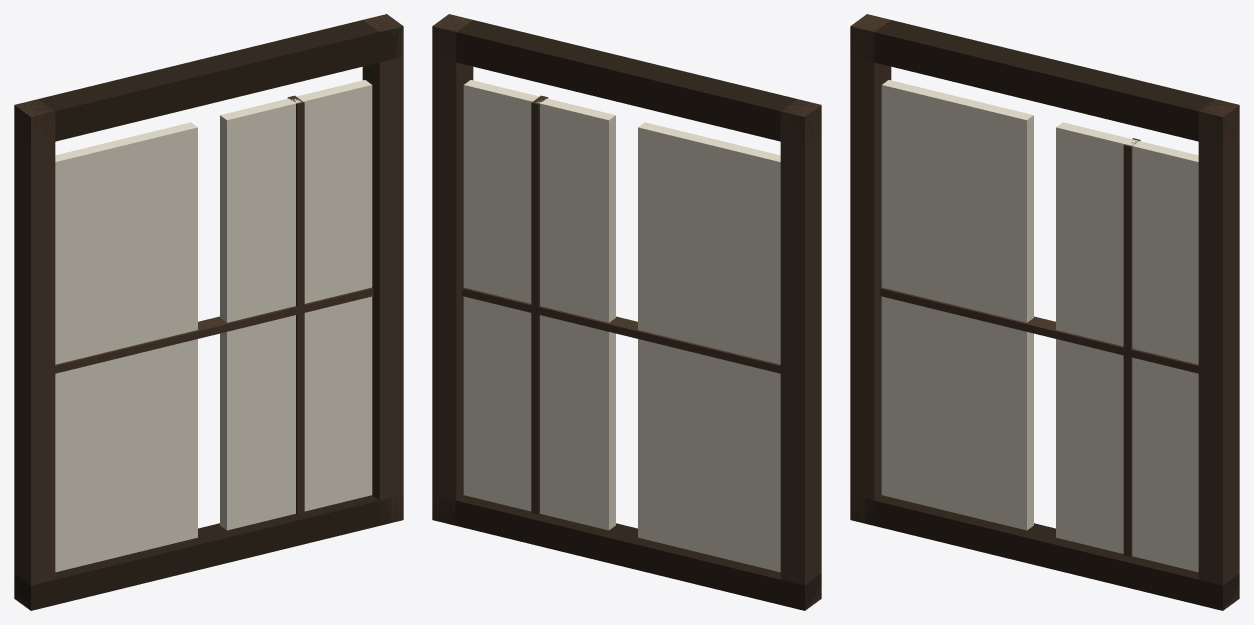
The model's file is shoji_door.glb.
3 views of the same model, side by side, from view 1: azimuth 30°, elevation 25°; view 2: azimuth 150°, elevation 25°; view 3: azimuth 330°, elevation 25° (orthographic).
Parts seen in each view (by area): view 1: shoji_door; view 2: shoji_door; view 3: shoji_door.
Part boxes in pixels (left/top/right/bottom): shoji_door: left=14, top=14, right=403, bottom=610; shoji_door: left=432, top=14, right=821, bottom=610; shoji_door: left=850, top=14, right=1239, bottom=610.
Size of the model in its own units: 1.54 by 1.95 by 0.12.
1 material, 1 textured.
